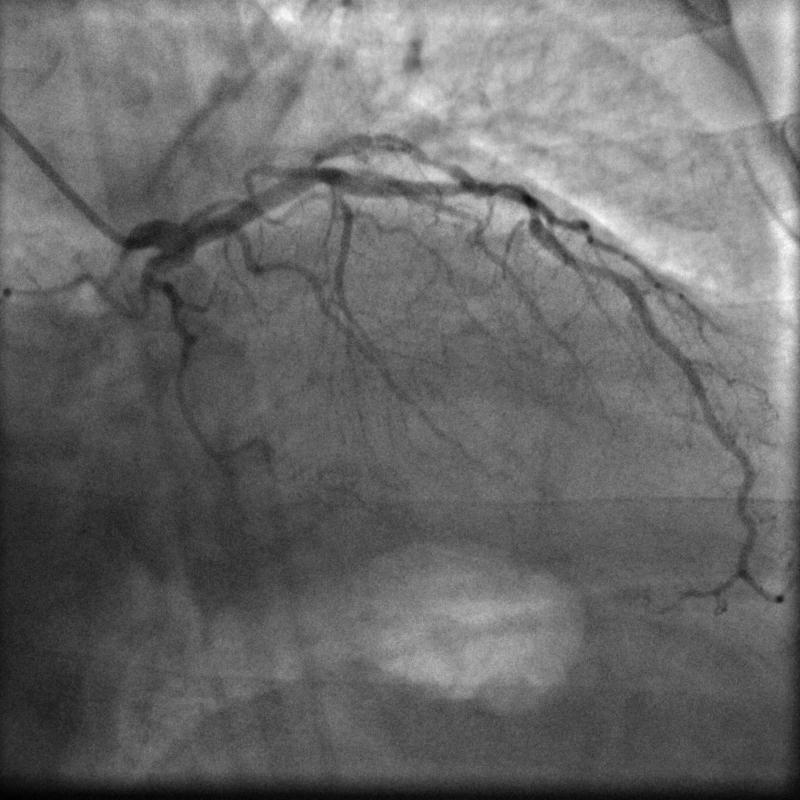Stenosis: (455, 173, 538, 222)
